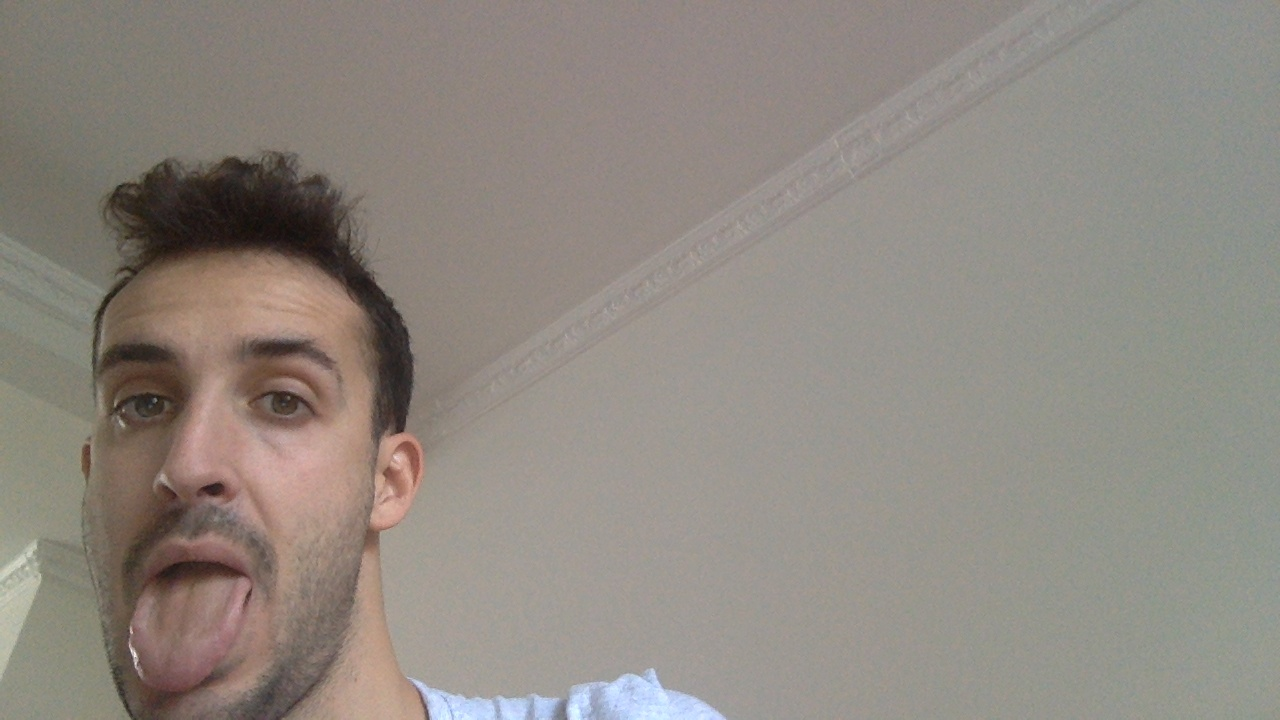tongue: (118, 535, 263, 703)
